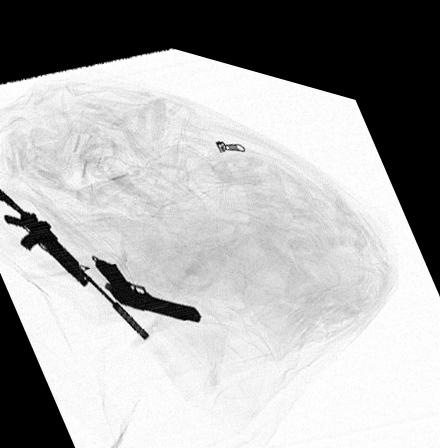Gun: (0, 187, 150, 332), (93, 251, 199, 311)
